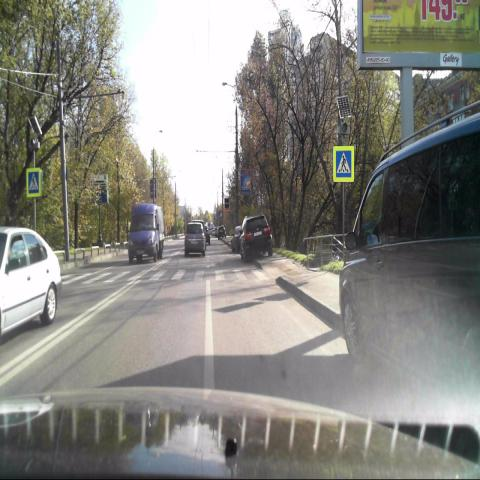5_19_1: (333, 146, 354, 183), (26, 169, 42, 199)
